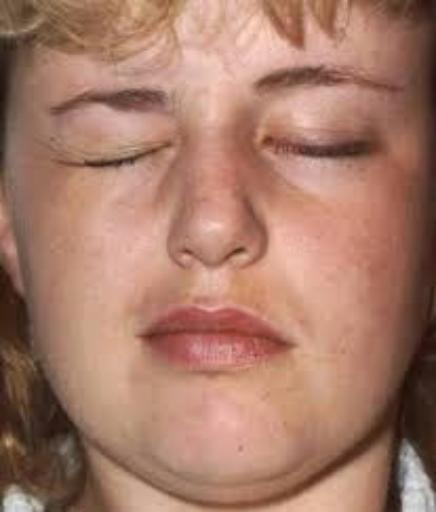left_eye: (266, 137, 373, 168)
left_lip_corner: (272, 332, 306, 359)
right_eye: (49, 133, 176, 178)
right_lip_corner: (131, 323, 161, 351)
